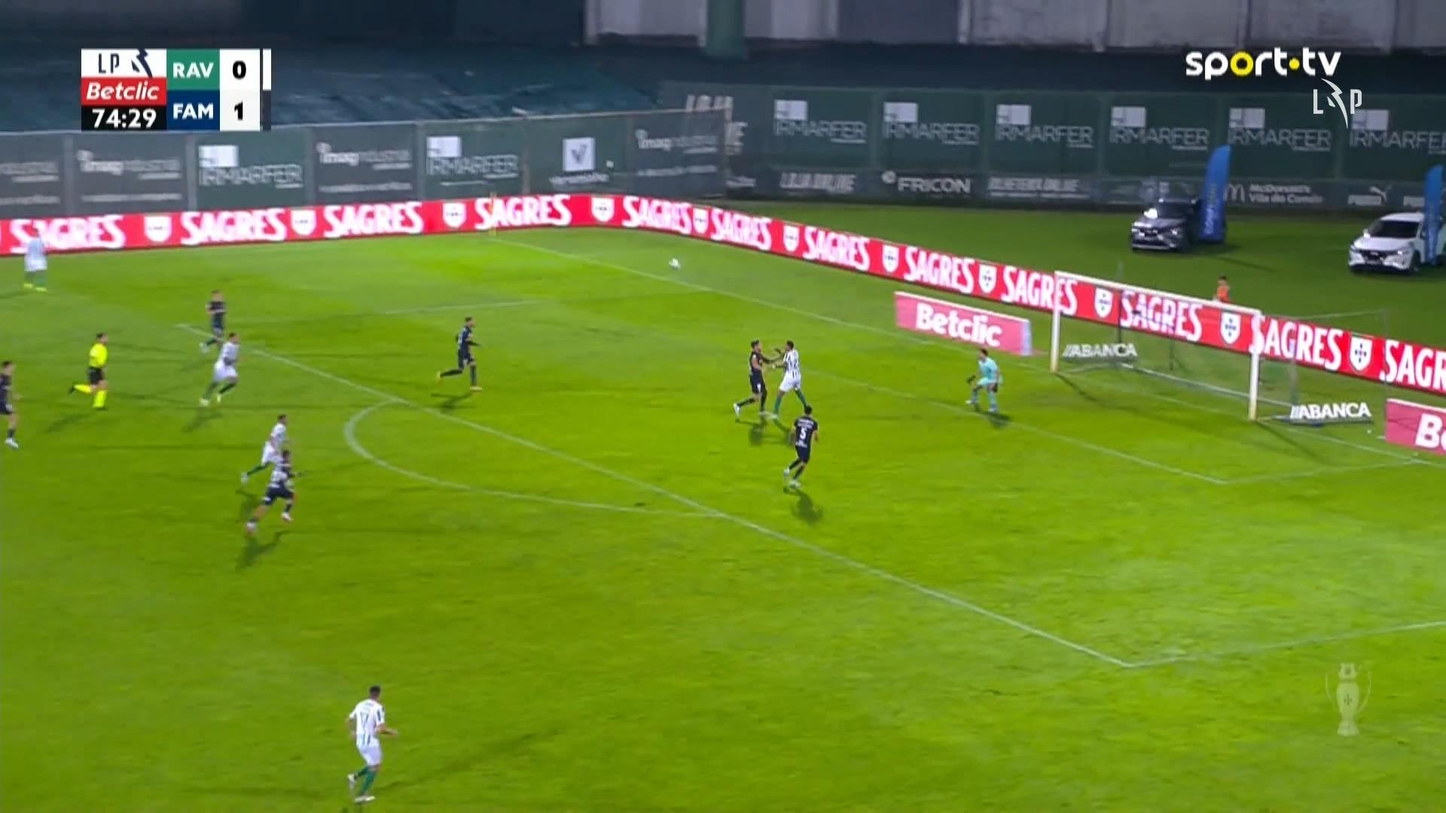ball: (669, 257, 679, 269)
goalkeeper: (965, 346, 1002, 413)
player: (344, 684, 398, 802), (242, 447, 297, 535), (731, 338, 780, 422), (435, 315, 484, 391), (239, 412, 290, 485), (781, 404, 820, 492), (197, 330, 240, 407), (769, 339, 808, 419), (21, 225, 50, 291), (0, 358, 20, 448), (200, 288, 227, 349)
referee: (68, 331, 110, 410)
